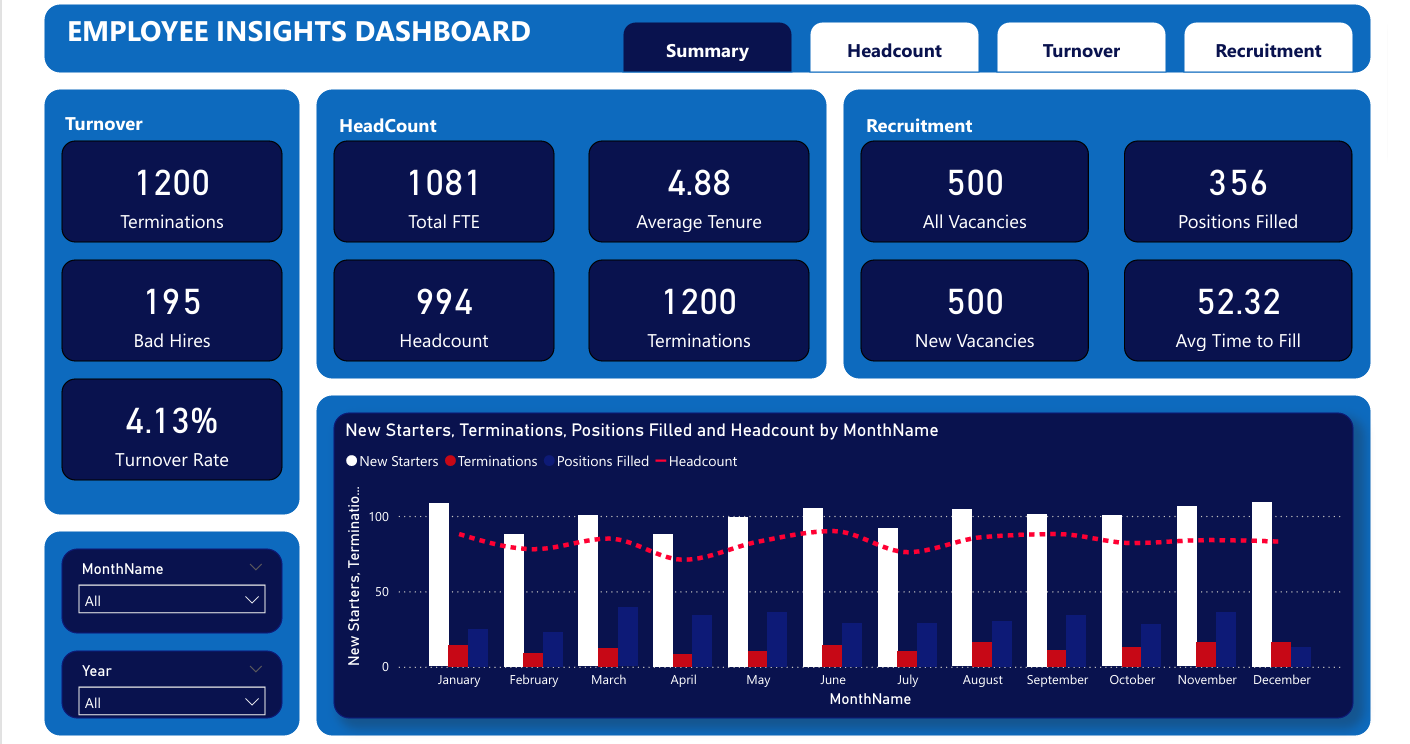

The page's visual inventory and layout, read from the dashboard file:
{"tool":"powerbi","page":{"name":"Summary","canvas":[1280,720],"ordinal":0},"visuals":[{"type":"shape","box":[272,96,480,272],"z":0},{"type":"shape","box":[16,96,240,400],"z":1000},{"type":"shape","box":[16,512,240,192],"z":2000},{"type":"shape","box":[272,384,992,320],"z":3000},{"type":"shape","box":[16,16,1248,64],"z":4000},{"type":"shape","box":[912,32,160,48],"z":5000},{"type":"shape","box":[1088,32,160,48],"z":6000},{"type":"textbox","box":[32,16,480,64],"z":7000},{"type":"lineClusteredColumnComboChart","fields":{"Category":["Date_Dim.MonthName"],"Y":["Employee_Master.New Starters","Employee_Master.Terminations","Employee_Master.Positions Filled"],"Y2":["Employee_Master.Headcount"]},"box":[288,400,960,288],"z":8000},{"type":"shape","box":[768,96,496,272],"z":9000},{"type":"card","fields":{"Values":["Employee_Master.Terminations"]},"box":[32,144,208,96],"z":10000},{"type":"card","fields":{"Values":["Employee_Master.Bad Hires"]},"box":[32,256,208,96],"z":11000},{"type":"card","fields":{"Values":["Employee_Master.Headcount"]},"box":[288,256,208,96],"z":12000},{"type":"card","fields":{"Values":["Employee_Master.New Vacancies"]},"box":[784,256,215.2,96],"z":12000,"group":"g1"},{"type":"card","fields":{"Values":["Employee_Master.Turnover Rate"]},"box":[32,368,208,96],"z":13000},{"type":"group","id":"g1","title":"Group 2","box":[784,144,480,208],"z":14000},{"type":"shape","box":[560,32,160,48],"z":15000},{"type":"card","fields":{"Values":["Employee_Master.All Vacancies"]},"box":[784,144,215.2,96],"z":15000,"group":"g1"},{"type":"card","fields":{"Values":["Employee_Master.Total FTE"]},"box":[288,144,208,96],"z":16000},{"type":"card","fields":{"Values":["Employee_Master.Positions Filled"]},"box":[1032.3,144,215.2,96],"z":16000,"group":"g1"},{"type":"shape","box":[736,32,160,48],"z":17000},{"type":"card","fields":{"Values":["Employee_Master.Average Tenure"]},"box":[528,144,208,96],"z":18000},{"type":"card","fields":{"Values":["Employee_Master.Avg Time to Fill"]},"box":[1032.3,256,215.2,96],"z":19000,"group":"g1"},{"type":"slicer","fields":{"Values":["Date_Dim.MonthName"]},"box":[32,528,208,80],"z":19000},{"type":"slicer","fields":{"Values":["Date_Dim.Year"]},"box":[32,624,208,64],"z":20000},{"type":"card","fields":{"Values":["Employee_Master.Terminations"]},"box":[528,256,208,96],"z":21000}]}

Visuals, with their boxes in screenshot pixels (x1, y1, x2, y2):
shape: 314:87:822:375
shape: 43:87:297:510
shape: 43:527:297:730
shape: 314:392:1364:730
shape: 43:2:1364:70
shape: 991:19:1160:70
shape: 1177:19:1347:70
textbox: 60:2:568:70
lineClusteredColumnComboChart - Date_Dim.MonthName x Employee_Master.New Starters: 331:409:1347:714
shape: 839:87:1364:375
card - Employee_Master.Terminations: 60:138:280:239
card - Employee_Master.Bad Hires: 60:256:280:358
card - Employee_Master.Headcount: 331:256:551:358
card - Employee_Master.New Vacancies: 856:256:1083:358
card - Employee_Master.Turnover Rate: 60:375:280:476
"Group 2" group: 856:138:1364:358
shape: 618:19:788:70
card - Employee_Master.All Vacancies: 856:138:1083:239
card - Employee_Master.Total FTE: 331:138:551:239
card - Employee_Master.Positions Filled: 1118:138:1346:239
shape: 805:19:974:70
card - Employee_Master.Average Tenure: 585:138:805:239
card - Employee_Master.Avg Time to Fill: 1118:256:1346:358
slicer - Date_Dim.MonthName: 60:544:280:629
slicer - Date_Dim.Year: 60:646:280:714
card - Employee_Master.Terminations: 585:256:805:358
